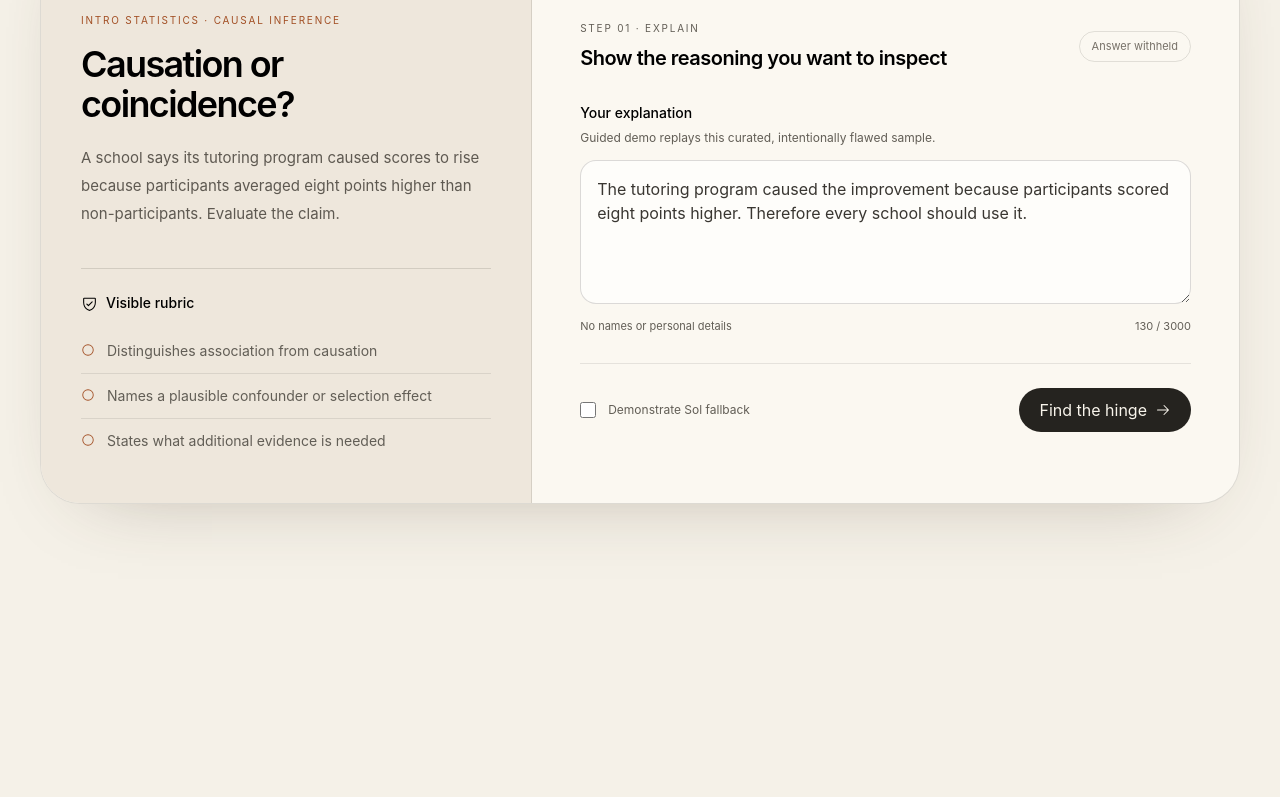
Test case: RepairStudio › turns the learner's revision into an auditable repair receipt
This screenshot has width=1280, height=797.
Click the button "Find the hinge" at (1105, 410), box top-left (1020, 388), bottom-right (1191, 432)
(page scrolled)
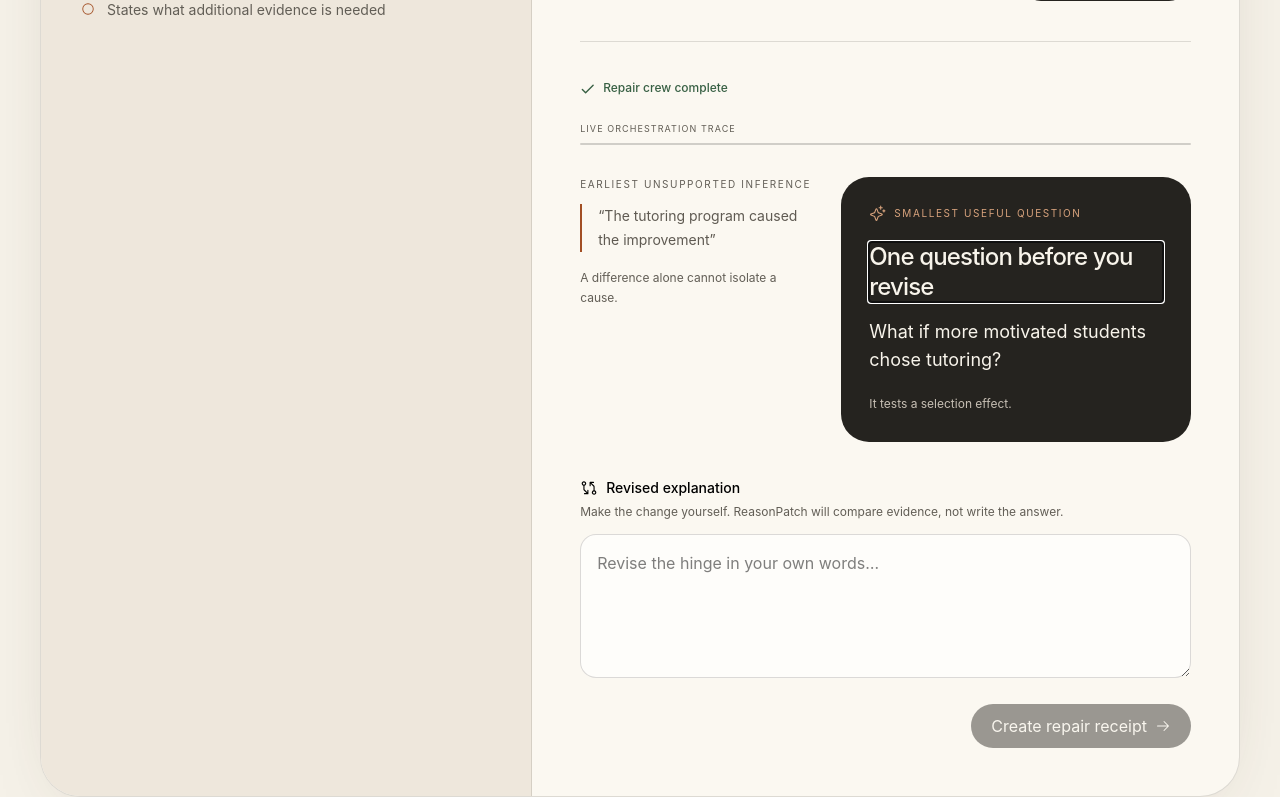
Type "Participants scored higher, but self-selection means the difference alone does not establish causation. We need comparable baselines and random assignment." into the text box labelled "Revised explanation" at (886, 606), box top-left (580, 534), bottom-right (1191, 678)
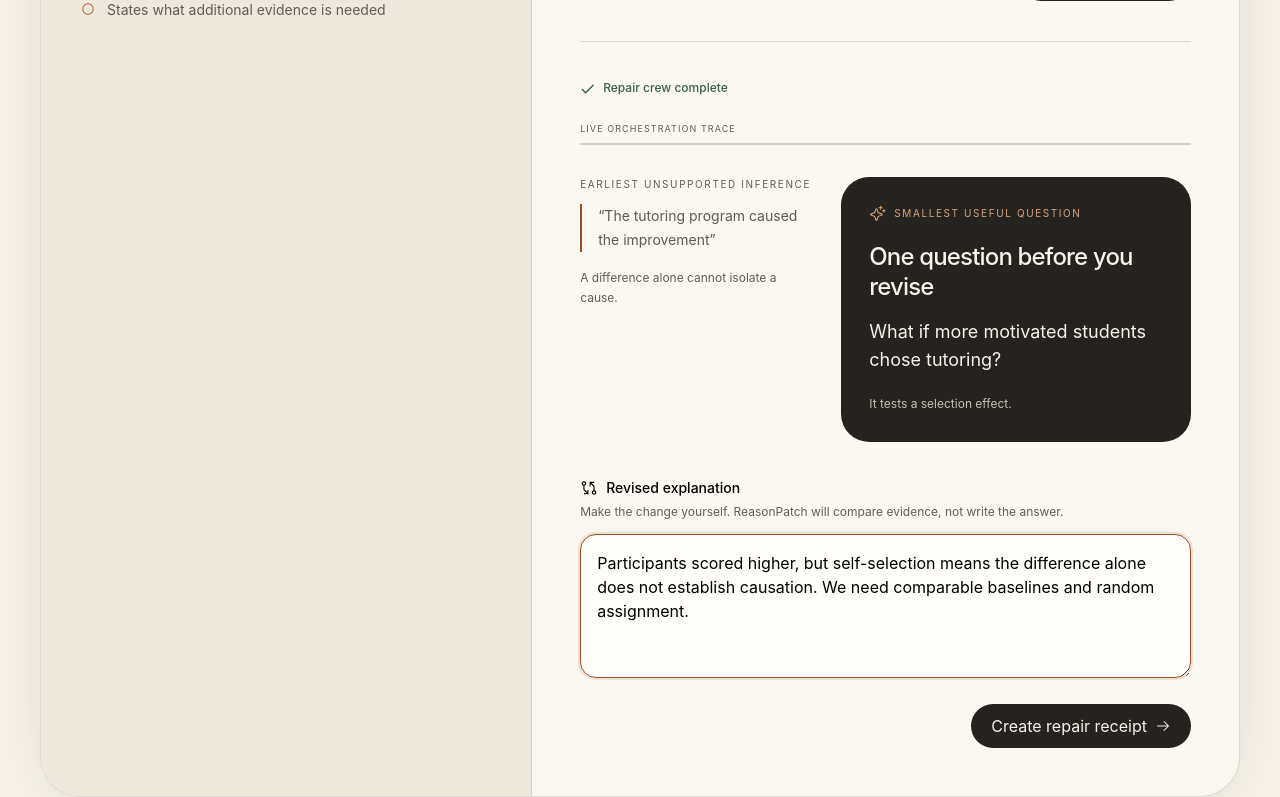
Click the button "Create repair receipt" at (1081, 726), box top-left (971, 704), bottom-right (1191, 748)
(page scrolled)
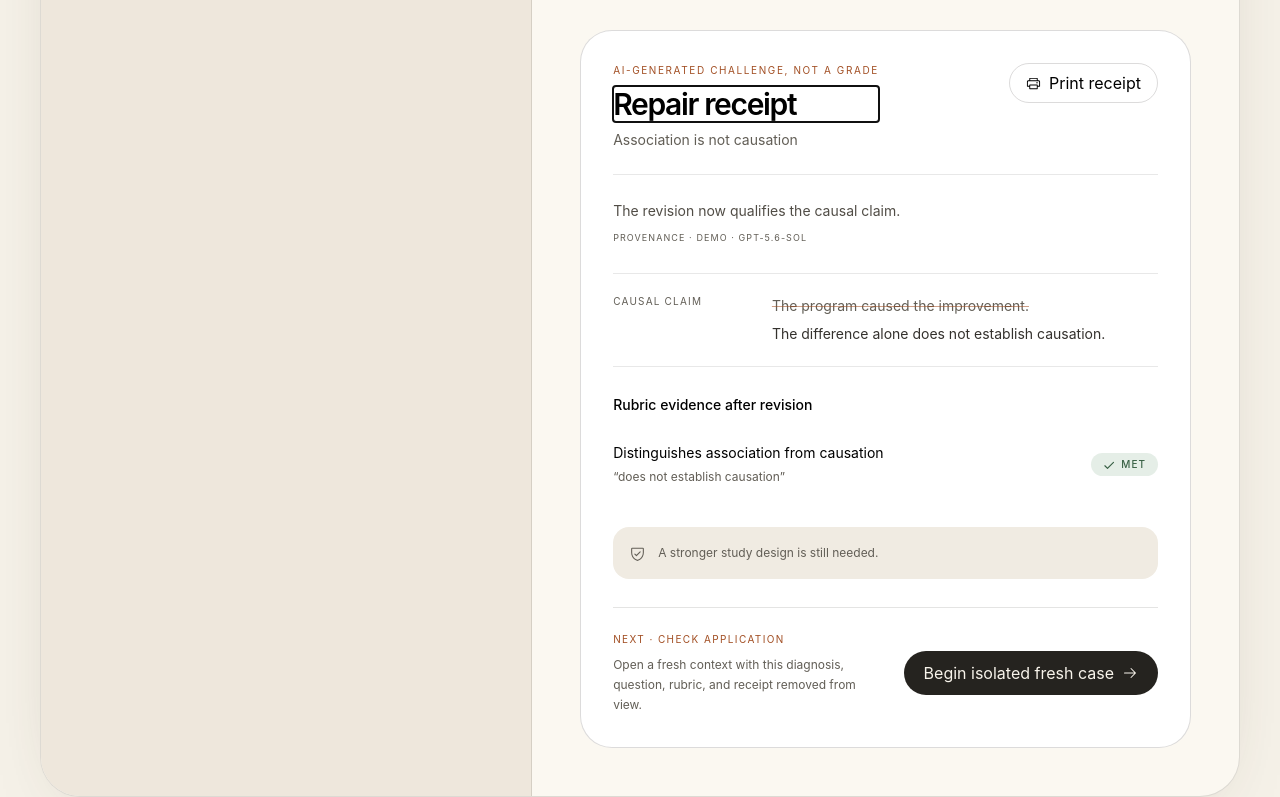
Expected: the heading "Repair receipt" is shown, top-left (613, 86), bottom-right (796, 122)
Expected: the text "Association is not causation" is shown, top-left (613, 131), bottom-right (798, 148)
Expected: the text "AI-generated challenge, not a grade" is shown, top-left (613, 63), bottom-right (879, 78)
